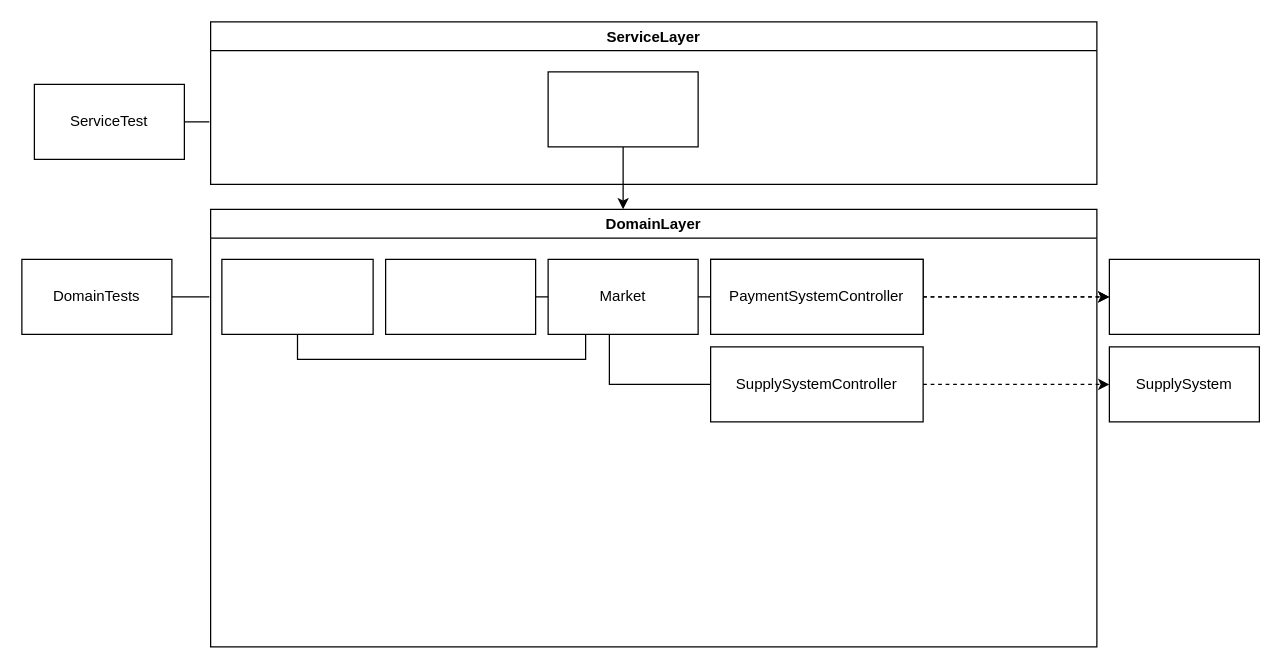
The diagram is 1281 pixels wide and 669 high, and some of its shapes have lost their labels. The centre of each missing label's shape, as x and y in pixels:
"Notification" belongs at pixel 460 296.
"PaymentSystem" belongs at pixel 1183 296.
"Security" belongs at pixel 297 296.
"TestBridge?" belongs at pixel 622 109.
